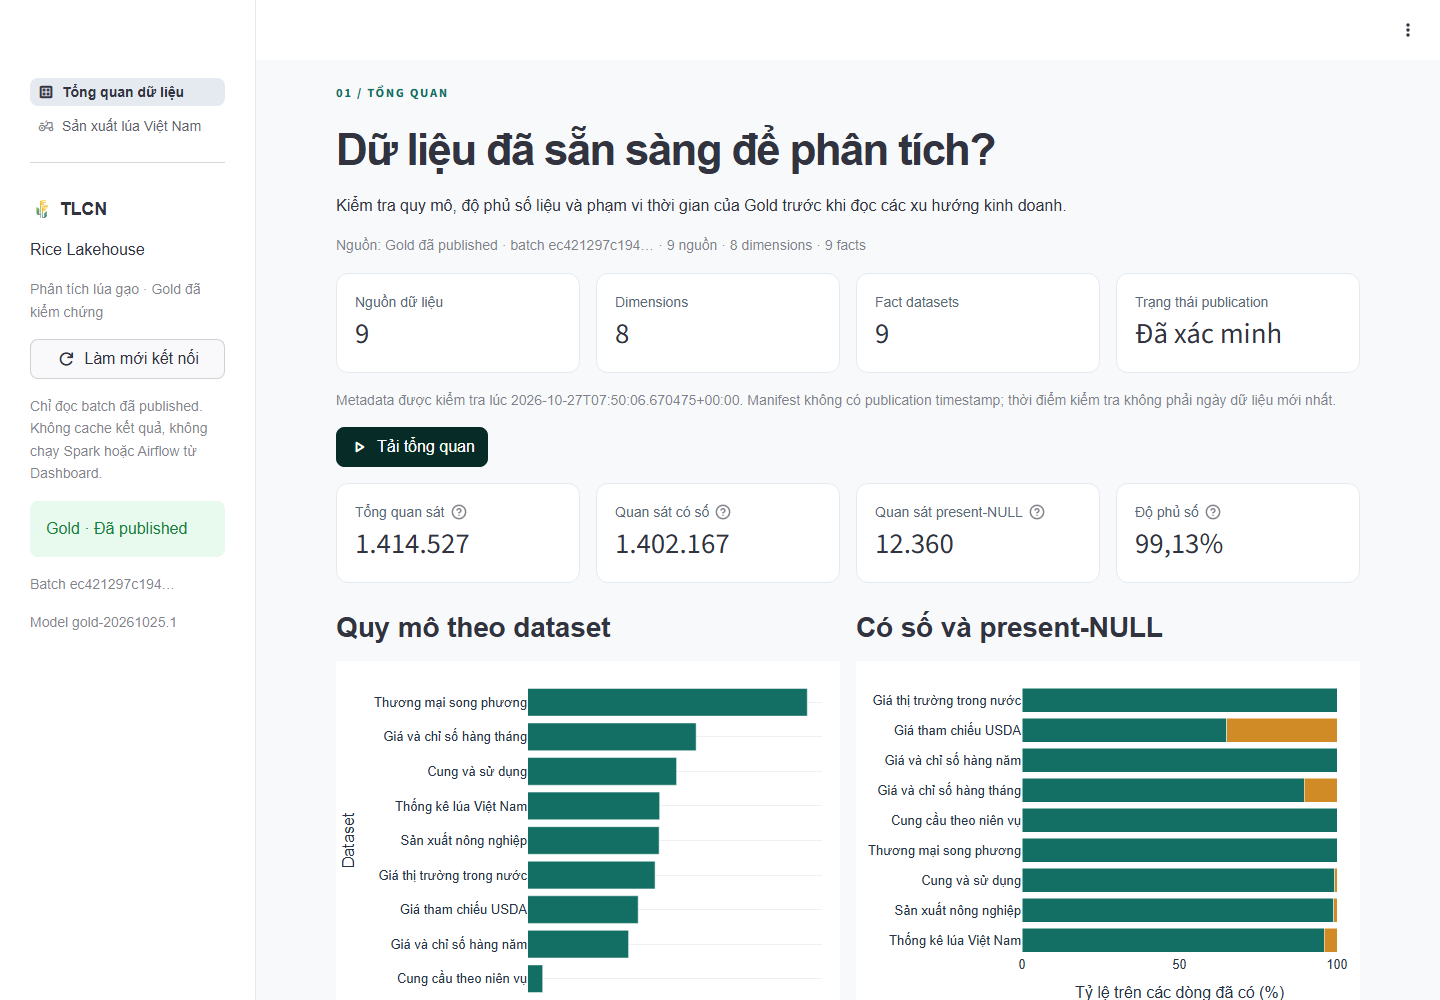

Layout of this report page (visuals, bound fields, positions):
{"tool":"powerbi","page":{"name":"01 · Tổng quan dữ liệu lúa gạo","canvas":[1280,720],"ordinal":0},"visuals":[{"type":"textbox","box":[32,12,1216,44],"z":1},{"type":"pageNavigator","box":[32,64,770,42],"z":2},{"type":"card","title":"Tổng quan sát","fields":{"Values":["Overview.Total Observations Display"]},"box":[32,120,290,90],"z":3},{"type":"card","title":"Quan sát có số","fields":{"Values":["Overview.Numeric Observations Display"]},"box":[336,120,290,90],"z":4},{"type":"card","title":"Quan sát NULL","fields":{"Values":["Overview.Present NULL Display"]},"box":[640,120,290,90],"z":5},{"type":"card","title":"Tỷ lệ có số","fields":{"Values":["Overview.Numeric Coverage Display"]},"box":[944,120,290,90],"z":6},{"type":"barChart","title":"Số quan sát theo bộ dữ liệu","fields":{"Category":["Overview.fact_name"],"Y":["Overview.Total Observations"]},"box":[32,224,590,225],"z":7},{"type":"barChart","title":"Có số và present-NULL","fields":{"Category":["Overview.fact_name"],"Y":["Overview.Numeric Observations","Overview.Present NULL"]},"box":[638,224,610,225],"z":8},{"type":"tableEx","title":"Danh mục và phạm vi thời gian được biểu diễn","fields":{"Values":["Overview.fact_name","Overview.period_grain","Overview.period_min","Overview.period_max","Overview.represented_periods","Overview.Numeric Coverage"]},"box":[32,466,1216,180],"z":9},{"type":"textbox","box":[32,654,1216,56],"z":90}]}

Visuals, with their boxes on the page's 1280x720 design canvas (x1, y1, x2, y2). These are canvas units, not pixel positions in the 1440x1000 screenshot, which may show the page scaled, cropped or inside an application window:
textbox: 32, 12, 1248, 56
pageNavigator: 32, 64, 802, 106
"Tổng quan sát" card: 32, 120, 322, 210
"Quan sát có số" card: 336, 120, 626, 210
"Quan sát NULL" card: 640, 120, 930, 210
"Tỷ lệ có số" card: 944, 120, 1234, 210
"Số quan sát theo bộ dữ liệu" barChart: 32, 224, 622, 449
"Có số và present-NULL" barChart: 638, 224, 1248, 449
"Danh mục và phạm vi thời gian được biểu diễn" tableEx: 32, 466, 1248, 646
textbox: 32, 654, 1248, 710
